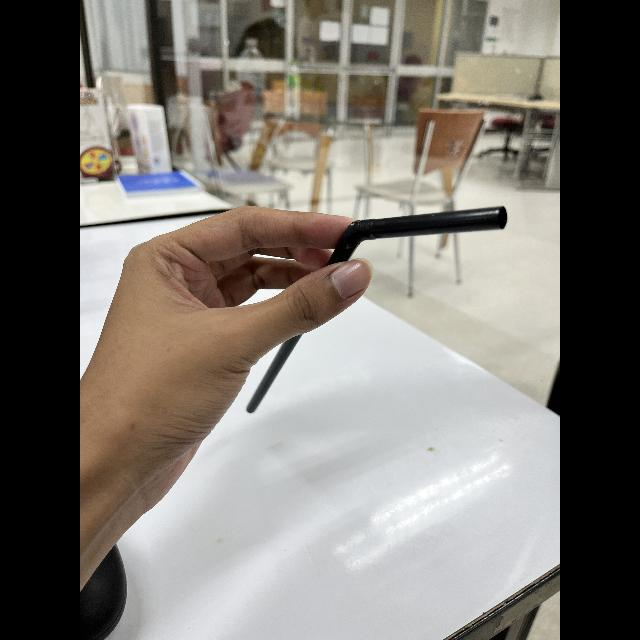straw: (240, 196, 516, 416)
